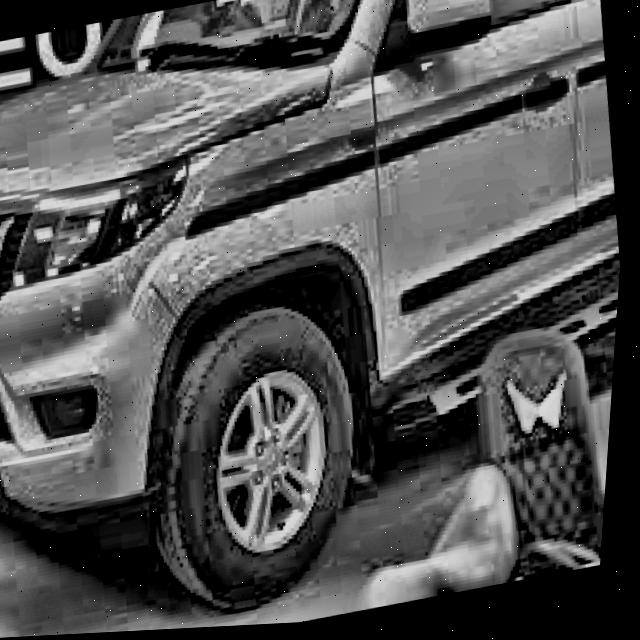light_vehicle: (0, 0, 435, 625)
